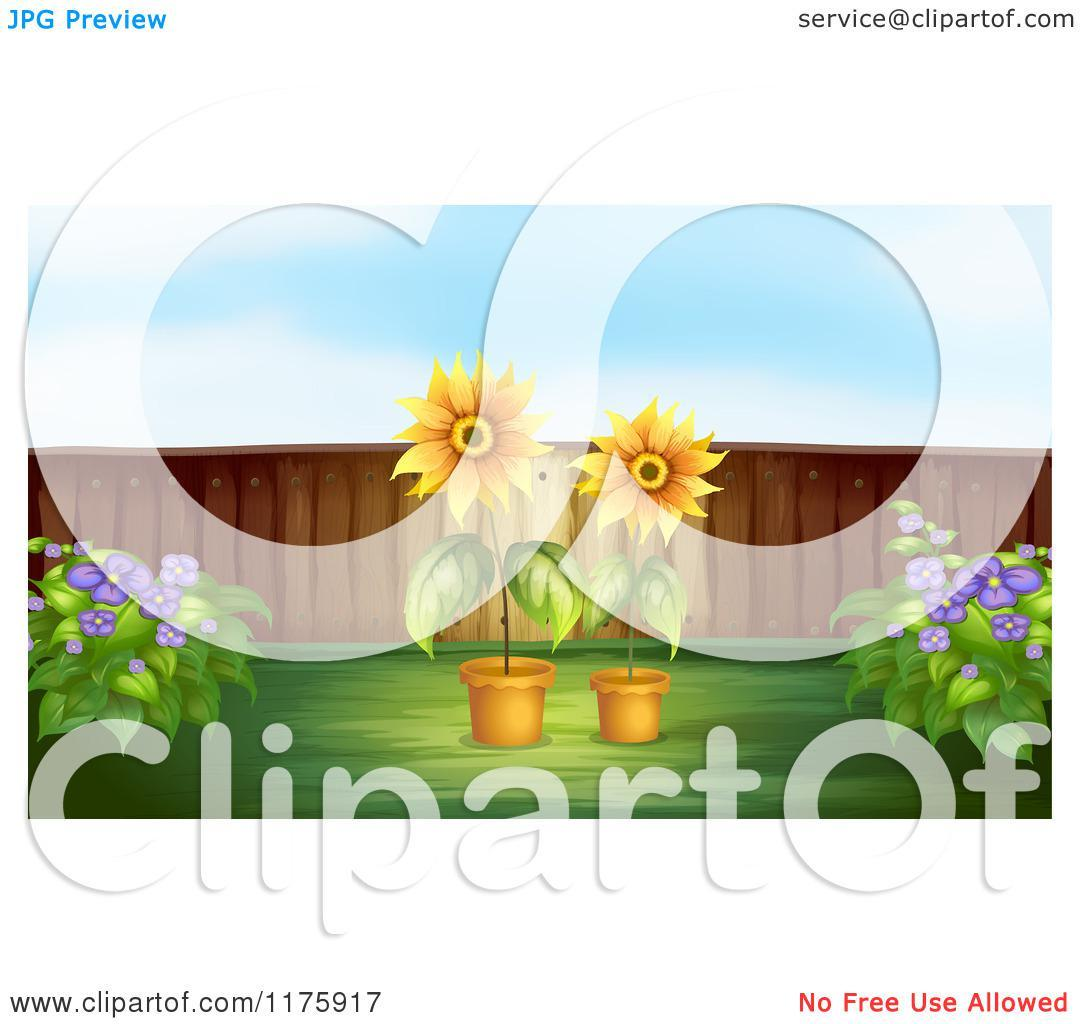pottedplant: (376, 359, 581, 745), (583, 397, 739, 748)
